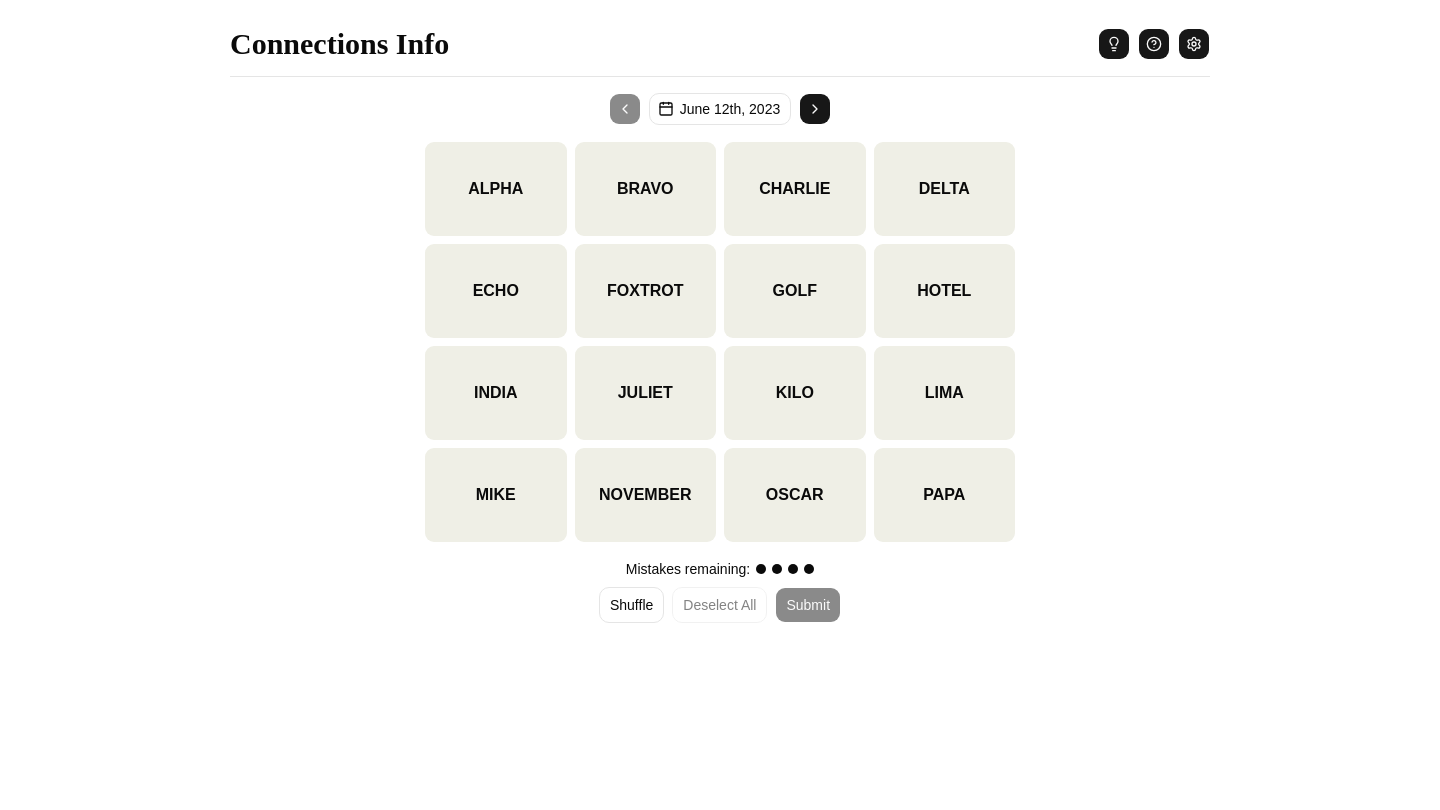
it: Connections app › prevents navigation before the first Connections puzzle
Expected: the text "ALPHA" is shown, 468,179 -> 523,199
Expected: the button named "Previous day" is disabled, 609,93 -> 641,125
Click the button "June 12th, 2023": (720,109) 649,93 -> 791,125
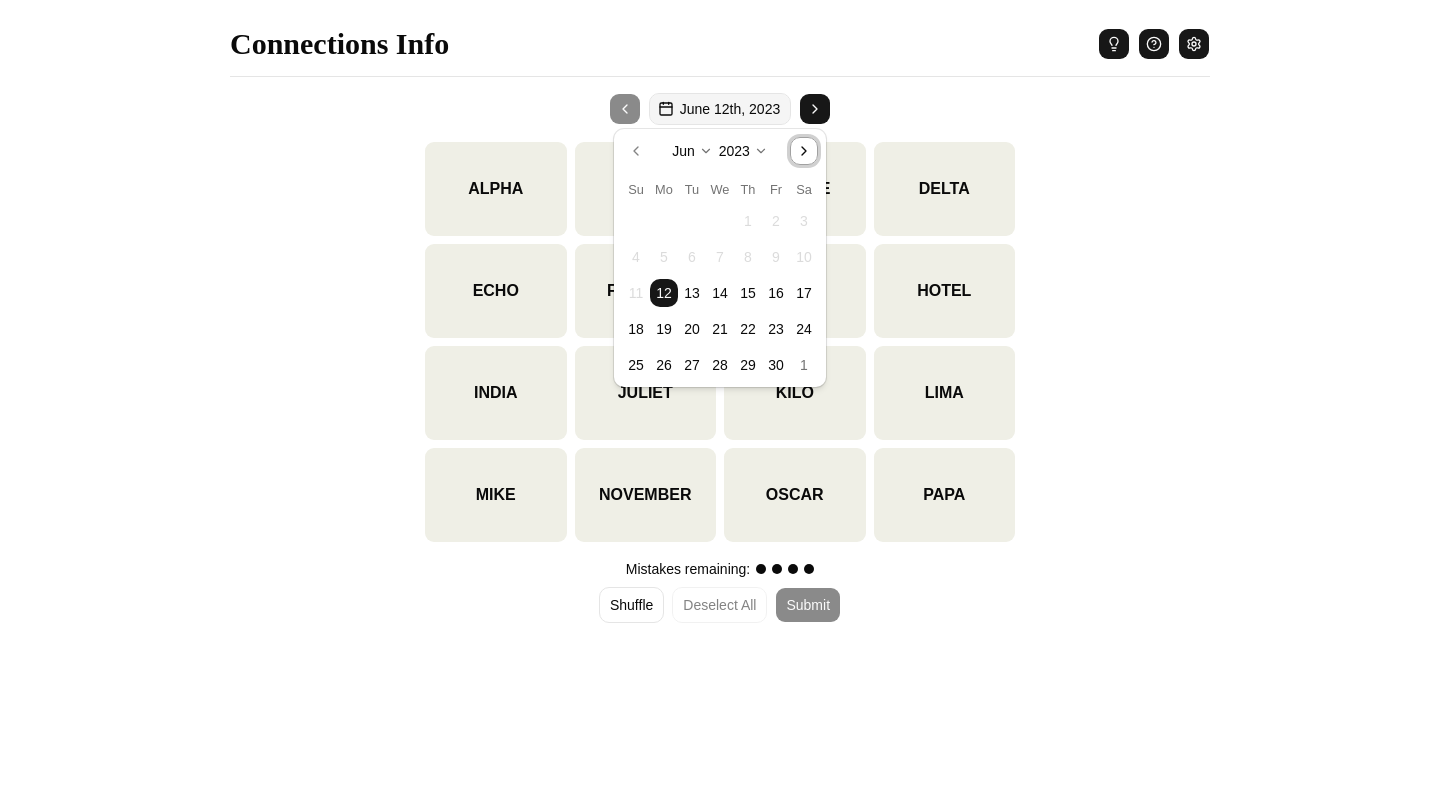
Now the button named "Sunday, June 11" is disabled, box 622,279 -> 650,307
Now the button named "Monday, June 12" is enabled, box 650,279 -> 678,307
